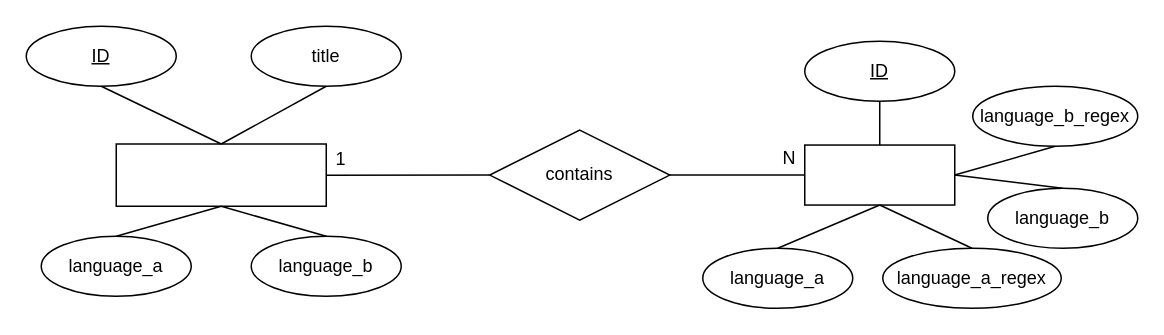
Image size: 1164x335. Some labels were removed from this diagram. Here are the shapes that lost their labels. From the top down, the centre of each, then its label:
(220,174): VocabularyCollection
(879,174): Vocabulary
